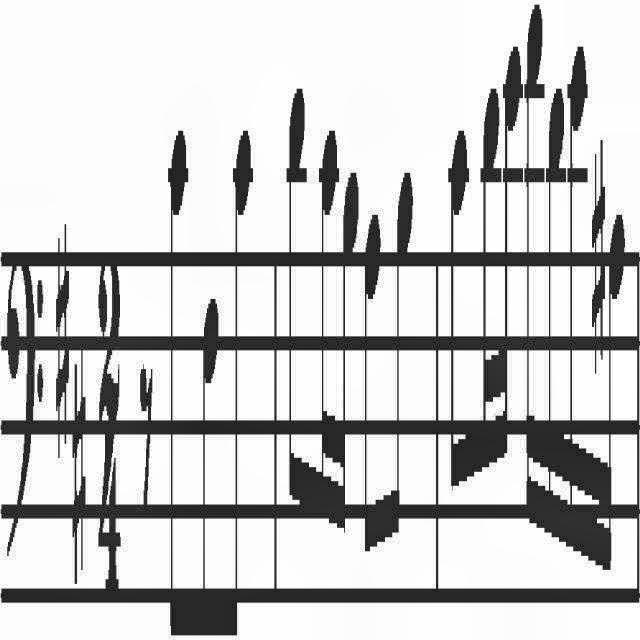Diez: (54, 215, 70, 467), (72, 341, 88, 589), (590, 134, 606, 380)
Eighth-note: (220, 126, 254, 634), (382, 162, 413, 574), (168, 122, 188, 638), (192, 292, 220, 640), (288, 81, 308, 506), (450, 120, 470, 510), (364, 203, 382, 569)
Eighth-rest: (138, 355, 154, 513)
Sixteenth-note: (602, 197, 630, 595), (500, 35, 524, 488), (525, 6, 545, 526), (568, 38, 588, 534), (335, 164, 361, 524), (546, 77, 566, 536), (317, 122, 339, 518), (480, 80, 500, 492)
